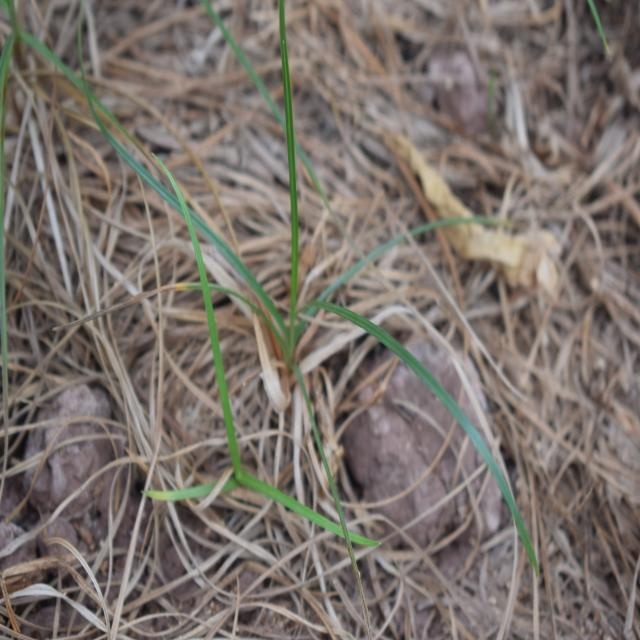sedge: (143, 19, 517, 610)
